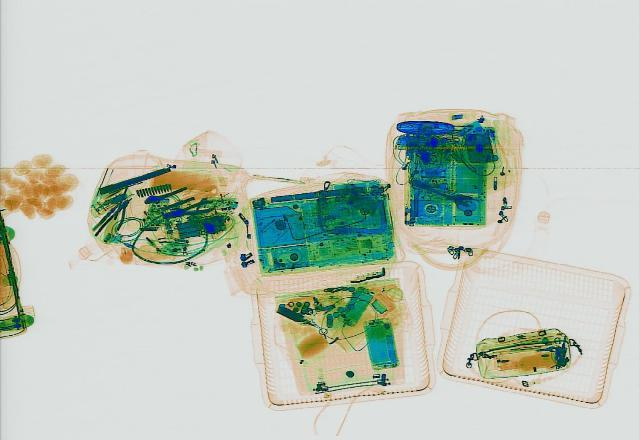Pliers: (96, 193, 138, 237), (159, 198, 217, 222)
Wrench: (140, 181, 188, 205)
